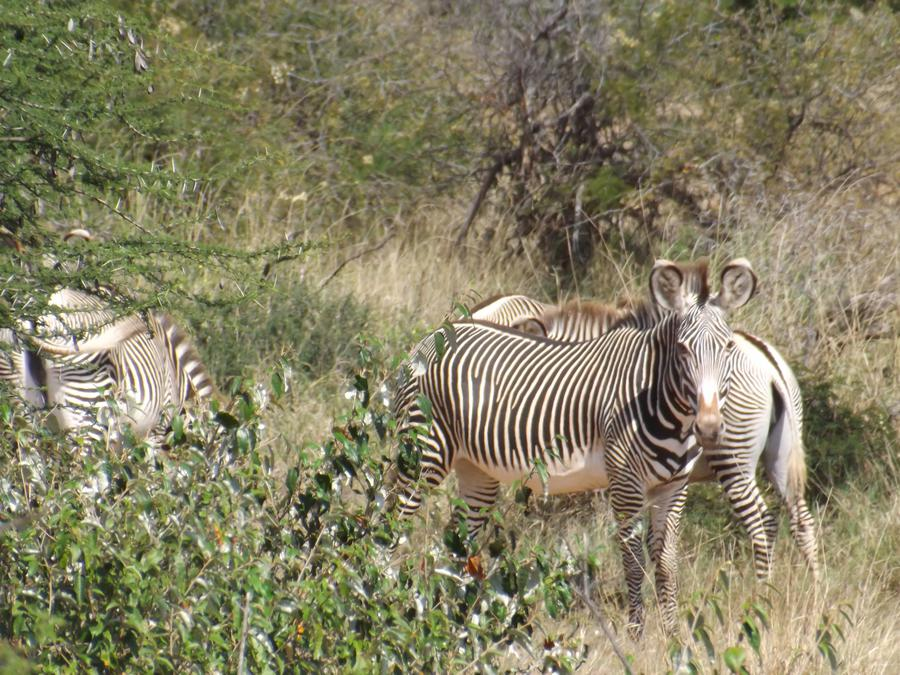zebra_grevys: (386, 303, 658, 493)
